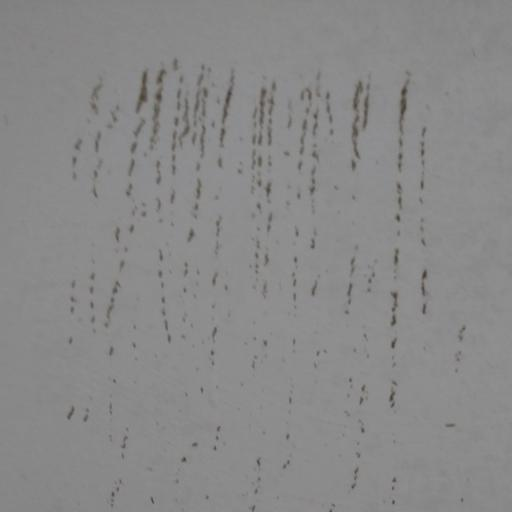stain: (61, 44, 459, 512)
